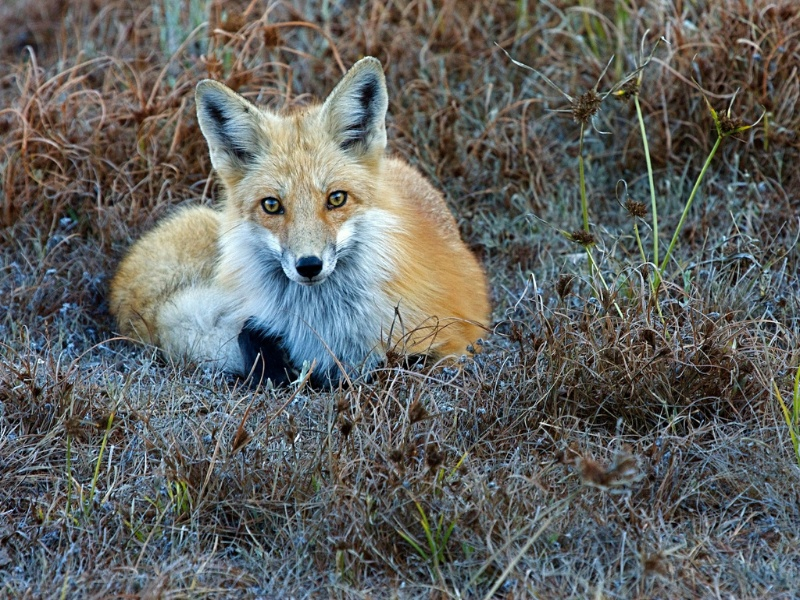fox: (99, 50, 492, 397)
